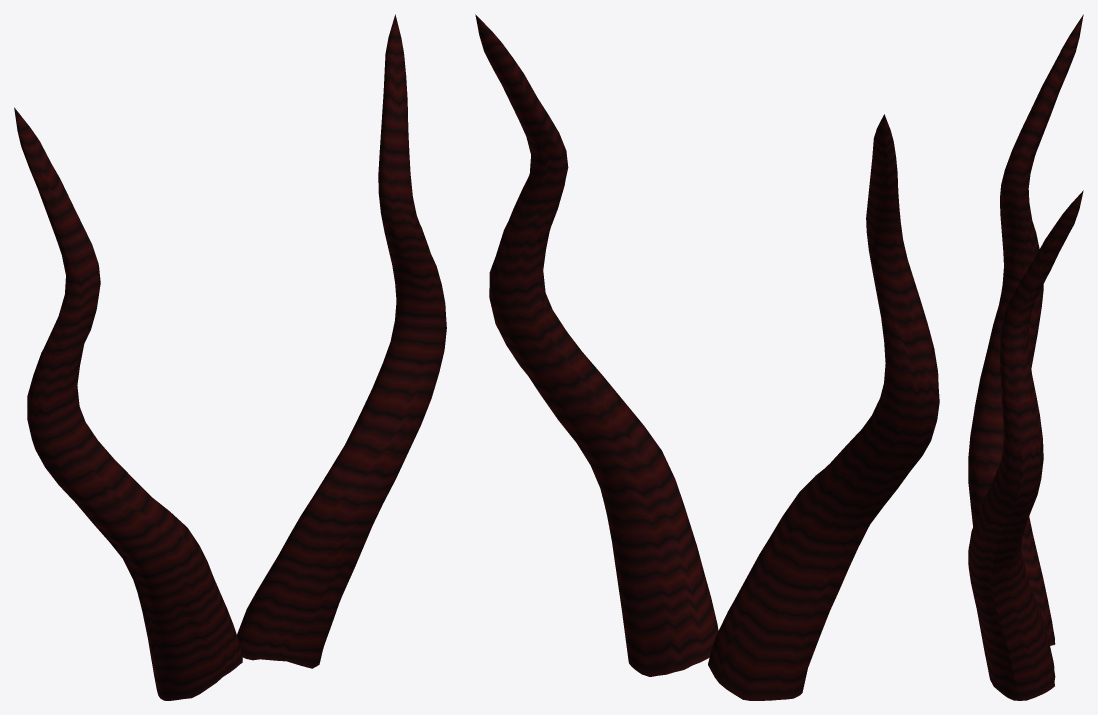
Rendered from gazellehorns-lite.glb.
The picture shows the model from 3 angles, left to right: view 1: azimuth 30°, elevation 25°; view 2: azimuth 150°, elevation 25°; view 3: azimuth 270°, elevation 25°; orthographic projection. The views are drawn at different scales.
Parts seen in each view (by area): view 1: gazellehorns; view 2: gazellehorns; view 3: gazellehorns.
Boxes of the visible parts, x1,y1,x2,y2 form: gazellehorns: [14, 14, 446, 700]; gazellehorns: [475, 14, 939, 700]; gazellehorns: [968, 14, 1083, 700].
Bounding box in the file's own units: 0.2444 × 0.3346 × 0.0621.
Materials: 1 (1 with a texture image).
